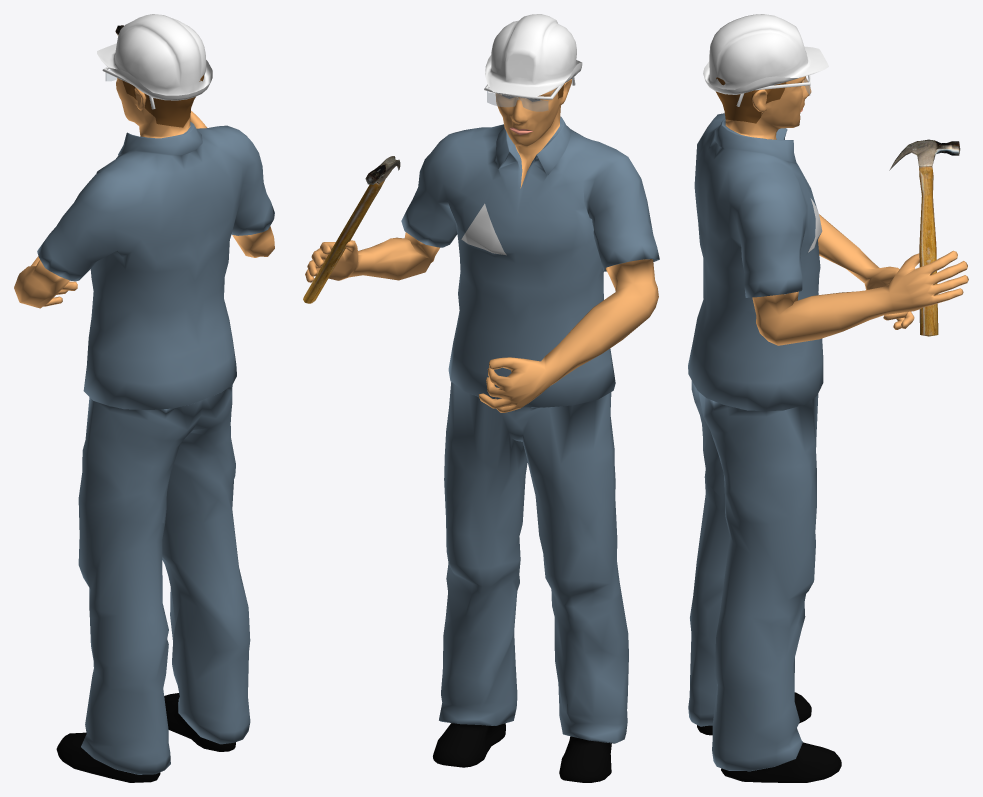
Rendered from Worker.fbx.
The picture shows the model from 3 angles, left to right: view 1: azimuth 30°, elevation 25°; view 2: azimuth 150°, elevation 25°; view 3: azimuth 270°, elevation 25°; orthographic projection.
Visible parts, largest first — view 1: Group6, Group4; view 2: Group6, Group4, Group7, Group1; view 3: Group6, Group4, Group7.
Boxes of the visible parts, x1,y1,x2,y2 form: Group6: (14, 75, 274, 782); Group4: (97, 14, 212, 100); Group6: (305, 79, 659, 782); Group4: (485, 14, 582, 96); Group7: (303, 156, 400, 303); Group1: (484, 77, 575, 111); Group6: (688, 76, 968, 782); Group4: (703, 14, 828, 94); Group7: (889, 139, 960, 336).
Size of the model in its own units: 27.71 by 71.67 by 24.91.
11 materials, 1 textured.
